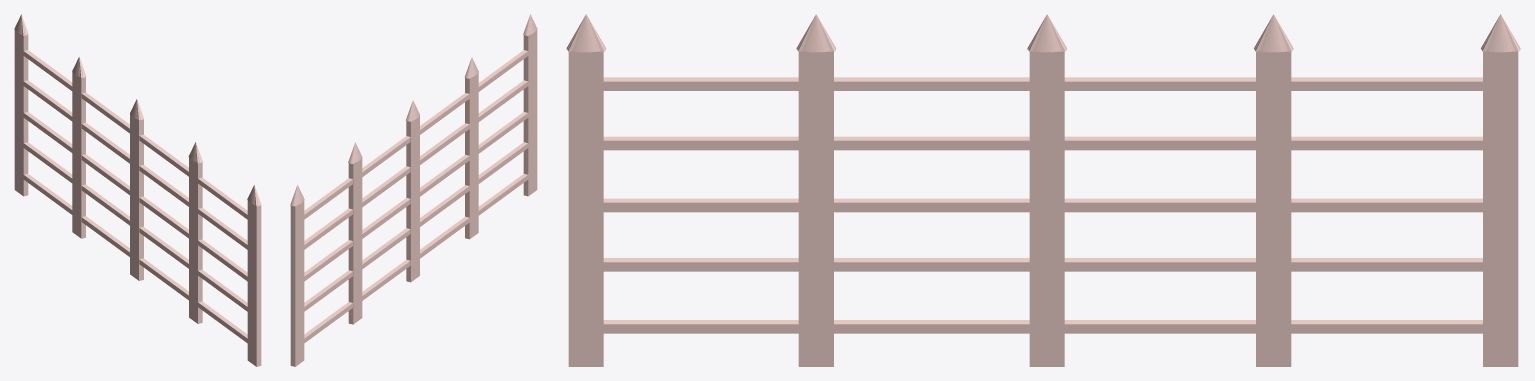
File: Plotek.glb
3 views of the same model, side by side, from view 1: azimuth 30°, elevation 25°; view 2: azimuth 150°, elevation 25°; view 3: azimuth 270°, elevation 25° (orthographic). The views are drawn at different scales.
Visible parts, largest first — view 1: Cube, Cube.029, Cube.023, Cube.017, Cube.011, Cube.001, Cube.003, Cube.002, Cube.004, Cube.006, Cube.007, Cube.010 (+13 smaller); view 2: Cube.029, Cube.023, Cube, Cube.011, Cube.017, Cube.004, Cube.001, Cube.002, Cube.006, Cube.003, Cube.007, Cube.010 (+13 smaller); view 3: Cube, Cube.011, Cube.017, Cube.023, Cube.029, Cube.007, Cube.008, Cube.003, Cube.004, Cube.019, Cube.020, Cube.013 (+18 smaller).
Part boxes in pixels (<box>): Cube: <box>247,200,261,366</box>; Cube.029: <box>14,30,28,196</box>; Cube.023: <box>72,72,85,238</box>; Cube.017: <box>130,114,143,280</box>; Cube.011: <box>189,157,202,323</box>; Cube.001: <box>198,301,247,343</box>; Cube.003: <box>198,208,247,249</box>; Cube.002: <box>198,269,247,311</box>; Cube.004: <box>198,239,247,281</box>; Cube.006: <box>198,177,247,219</box>; Cube.007: <box>139,196,188,238</box>; Cube.010: <box>139,258,188,300</box>; Cube.029: <box>290,200,304,366</box>; Cube.023: <box>348,158,362,324</box>; Cube: <box>523,30,537,196</box>; Cube.011: <box>465,72,478,239</box>; Cube.017: <box>406,115,419,282</box>; Cube.004: <box>478,112,528,153</box>; Cube.001: <box>478,174,528,215</box>; Cube.002: <box>478,142,528,183</box>; Cube.006: <box>478,50,528,91</box>; Cube.003: <box>478,80,528,121</box>; Cube.007: <box>420,154,469,196</box>; Cube.010: <box>420,216,469,258</box>; Cube: <box>568,51,603,366</box>; Cube.011: <box>798,51,833,366</box>; Cube.017: <box>1029,51,1064,366</box>; Cube.023: <box>1256,51,1291,366</box>; Cube.029: <box>1483,51,1518,366</box>; Cube.007: <box>834,198,1029,212</box>; Cube.008: <box>834,136,1029,150</box>; Cube.003: <box>603,136,798,150</box>; Cube.004: <box>603,198,798,212</box>; Cube.019: <box>1291,198,1482,212</box>; Cube.020: <box>1291,136,1482,150</box>; Cube.013: <box>1064,198,1255,212</box>.
Size of the model in its own units: 0.3446 by 7.83 by 19.31.
Materials: 30 (30 with a texture image).
